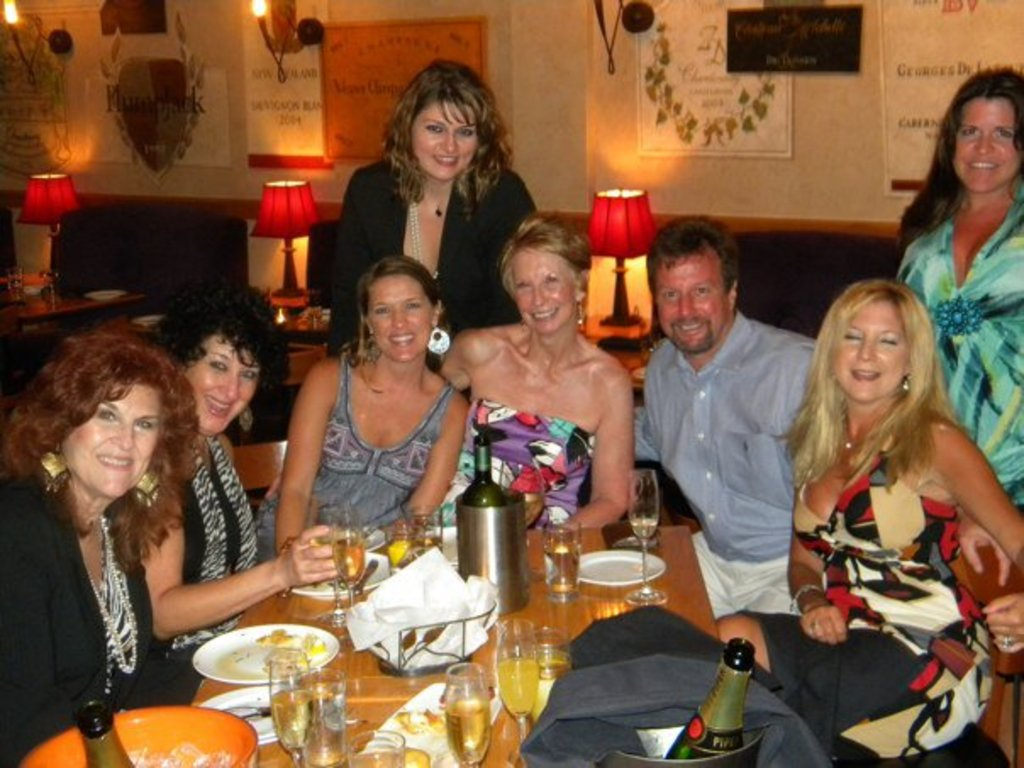Beer: (532, 534, 588, 595), (493, 651, 539, 720), (449, 698, 486, 766), (274, 693, 310, 762), (323, 539, 367, 588)
